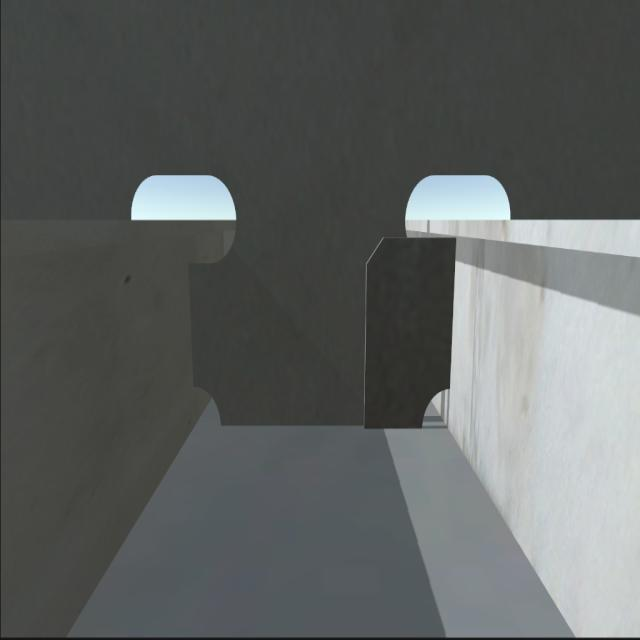fillet_hole: (418, 383, 453, 427), (192, 384, 224, 429)
fillet_yong_jeop_jang: (218, 416, 424, 435)
longi_yong_jeop_jang: (446, 236, 460, 390), (184, 261, 198, 384)
plate_CP03: (365, 232, 454, 425)
